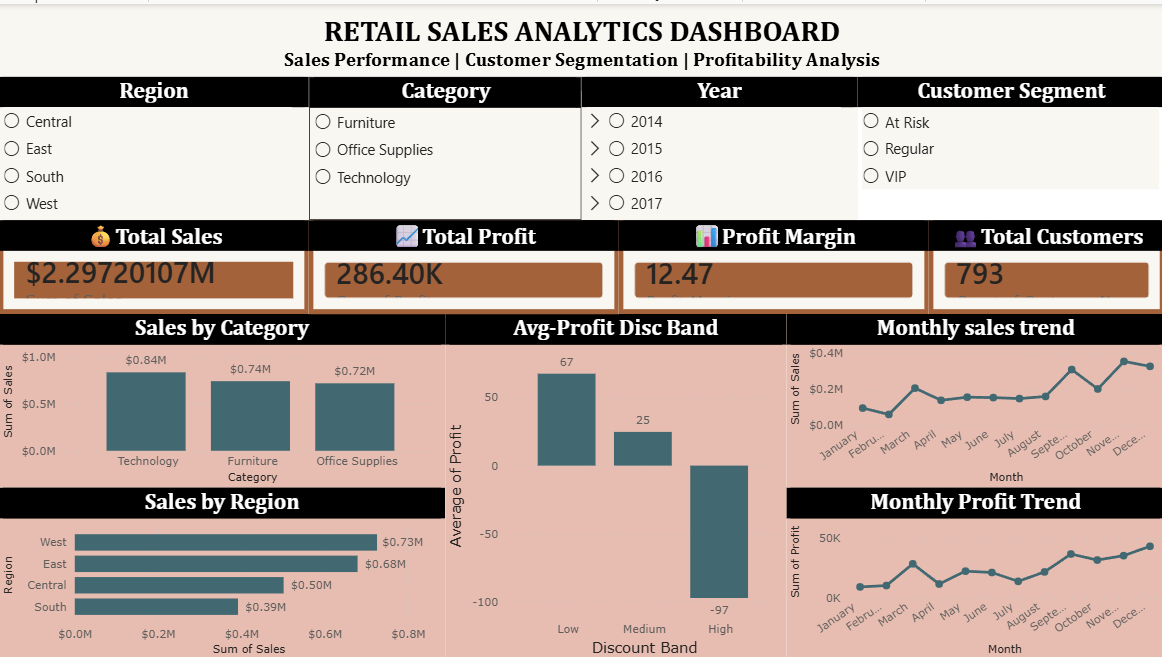

What the dashboard file says about the page in this screenshot:
{"tool":"powerbi","page":{"name":"Page 1","canvas":[1280,720],"ordinal":0},"visuals":[{"type":"cardVisual","title":"💰Total Sales","fields":{"Data":["Sum(SampleSuperstore.Sales)"]},"box":[0,237.4,340.3,102.9],"z":0},{"type":"cardVisual","title":"👥Total Customers","fields":{"Data":["Count(SampleSuperstore.Customer Name)"]},"box":[1020.9,237.4,259.3,102.9],"z":2000},{"type":"cardVisual","title":"📊Profit Margin","fields":{"Data":["SampleSuperstore.Profit Margin"]},"box":[680.6,237.4,340.3,102.9],"z":3000},{"type":"clusteredColumnChart","title":"Sales by Category","fields":{"Category":["SampleSuperstore.Category"],"Y":["Sum(SampleSuperstore.Sales)"]},"box":[0,340.3,489.9,190.7],"z":4000},{"type":"lineChart","title":"Monthly sales trend","fields":{"Category":["SampleSuperstore.Order Date.Variation.Date Hierarchy.Month"],"Y":["Sum(SampleSuperstore.Sales)"]},"box":[864.5,340.3,415.8,190.7],"z":5000},{"type":"clusteredBarChart","title":"Sales by Region","fields":{"Category":["SampleSuperstore.Region"],"Y":["Sum(SampleSuperstore.Sales)"]},"box":[0,531,489.9,189.4],"z":6000},{"type":"lineChart","title":"Monthly Profit Trend","fields":{"Y":["Sum(SampleSuperstore_Cleaned.Profit)"],"Category":["SampleSuperstore_Cleaned.Order Date.Variation.Date Hierarchy.Month"]},"box":[864.5,531,415.8,189.4],"z":7000},{"type":"clusteredColumnChart","title":"Avg-Profit Disc Band","fields":{"Category":["SampleSuperstore_Cleaned.Discount Band"],"Y":["Avg(SampleSuperstore_Cleaned.Profit)"]},"box":[489.9,340.3,374.6,380.1],"z":8000},{"type":"listSlicer","fields":{"Values":["SampleSuperstore_Cleaned.Region"]},"box":[0,79.6,340.3,157.8],"z":9000},{"type":"listSlicer","fields":{"Values":["SampleSuperstore_Cleaned.Category"]},"box":[340.3,79.6,299.1,157.8],"z":10000},{"type":"listSlicer","fields":{"Values":["SampleSuperstore_Cleaned.Customer Segment"]},"box":[942.7,79.6,337.6,157.8],"z":11000},{"type":"listSlicer","fields":{"Values":["SampleSuperstore_Cleaned.Order Date.Variation.Date Hierarchy.Year","SampleSuperstore_Cleaned.Order Date.Variation.Date Hierarchy.Quarter","SampleSuperstore_Cleaned.Order Date.Variation.Date Hierarchy.Month","SampleSuperstore_Cleaned.Order Date.Variation.Date Hierarchy.Day"]},"box":[639.5,79.6,303.3,157.8],"z":12000},{"type":"textbox","box":[0,5.5,1280.3,74.1],"z":13000},{"type":"cardVisual","title":"📈Total Profit","fields":{"Data":["Sum(SampleSuperstore_Cleaned.Profit)"]},"box":[340.3,237.4,340.3,102.9],"z":13001}]}

Visuals, with their boxes in screenshot pixels (x1, y1, x2, y2), scaled from the page's 1280x720 canvas onto the 1162x657 screenshot:
"💰Total Sales" cardVisual: {"left": 0, "top": 217, "right": 309, "bottom": 311}
"👥Total Customers" cardVisual: {"left": 927, "top": 217, "right": 1161, "bottom": 311}
"📊Profit Margin" cardVisual: {"left": 618, "top": 217, "right": 927, "bottom": 311}
"Sales by Category" clusteredColumnChart: {"left": 0, "top": 311, "right": 445, "bottom": 485}
"Monthly sales trend" lineChart: {"left": 785, "top": 311, "right": 1161, "bottom": 485}
"Sales by Region" clusteredBarChart: {"left": 0, "top": 485, "right": 445, "bottom": 656}
"Monthly Profit Trend" lineChart: {"left": 785, "top": 485, "right": 1161, "bottom": 656}
"Avg-Profit Disc Band" clusteredColumnChart: {"left": 445, "top": 311, "right": 785, "bottom": 656}
listSlicer - SampleSuperstore_Cleaned.Region: {"left": 0, "top": 73, "right": 309, "bottom": 217}
listSlicer - SampleSuperstore_Cleaned.Category: {"left": 309, "top": 73, "right": 580, "bottom": 217}
listSlicer - SampleSuperstore_Cleaned.Customer Segment: {"left": 856, "top": 73, "right": 1161, "bottom": 217}
listSlicer - SampleSuperstore_Cleaned.Order Date.Variation.Date Hierarchy.Year x SampleSuperstore_Cleaned.Order Date.Variation.Date Hierarchy.Quarter: {"left": 581, "top": 73, "right": 856, "bottom": 217}
textbox: {"left": 0, "top": 5, "right": 1161, "bottom": 73}
"📈Total Profit" cardVisual: {"left": 309, "top": 217, "right": 618, "bottom": 311}
